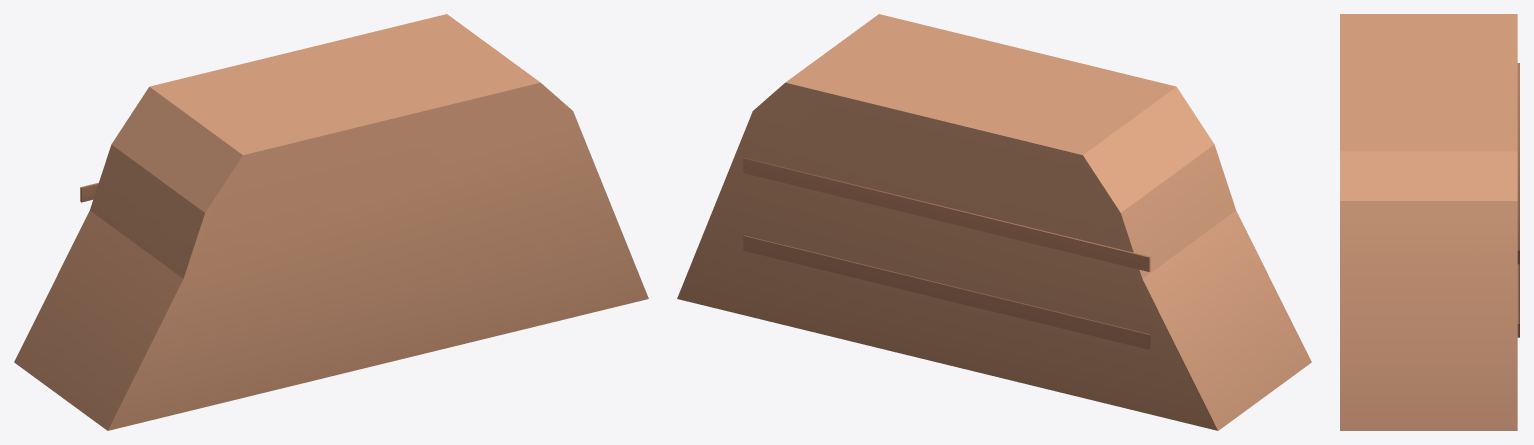
The model's file is Desert_Mesa1.fbx.
The picture shows the model from 3 angles, left to right: view 1: azimuth 30°, elevation 25°; view 2: azimuth 150°, elevation 25°; view 3: azimuth 270°, elevation 25°; orthographic projection. The views are drawn at different scales.
Visible parts, largest first — view 1: Desert_Mesa1; view 2: Desert_Mesa1; view 3: Desert_Mesa1.
Part boxes in pixels (x1,y1,x2,y2): Desert_Mesa1: (14,14,648,430); Desert_Mesa1: (677,14,1311,430); Desert_Mesa1: (1340,14,1519,430).
Bounding box in the file's own units: 14 × 6 × 4.26.
